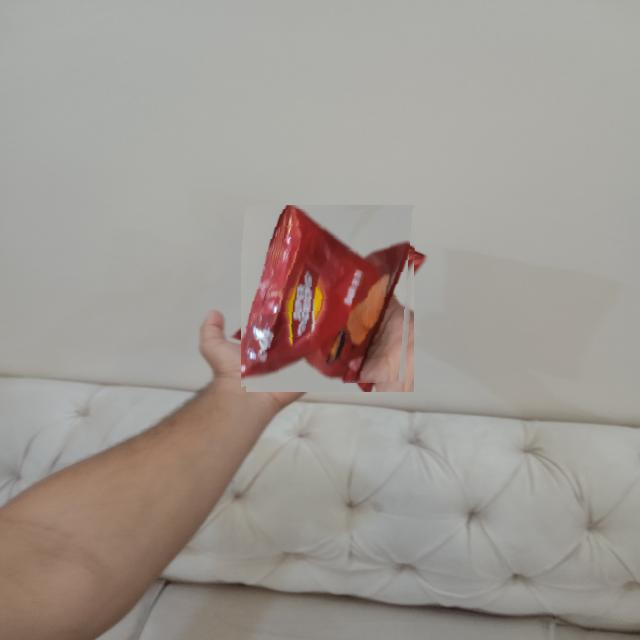Plastic: (242, 209, 419, 387)
